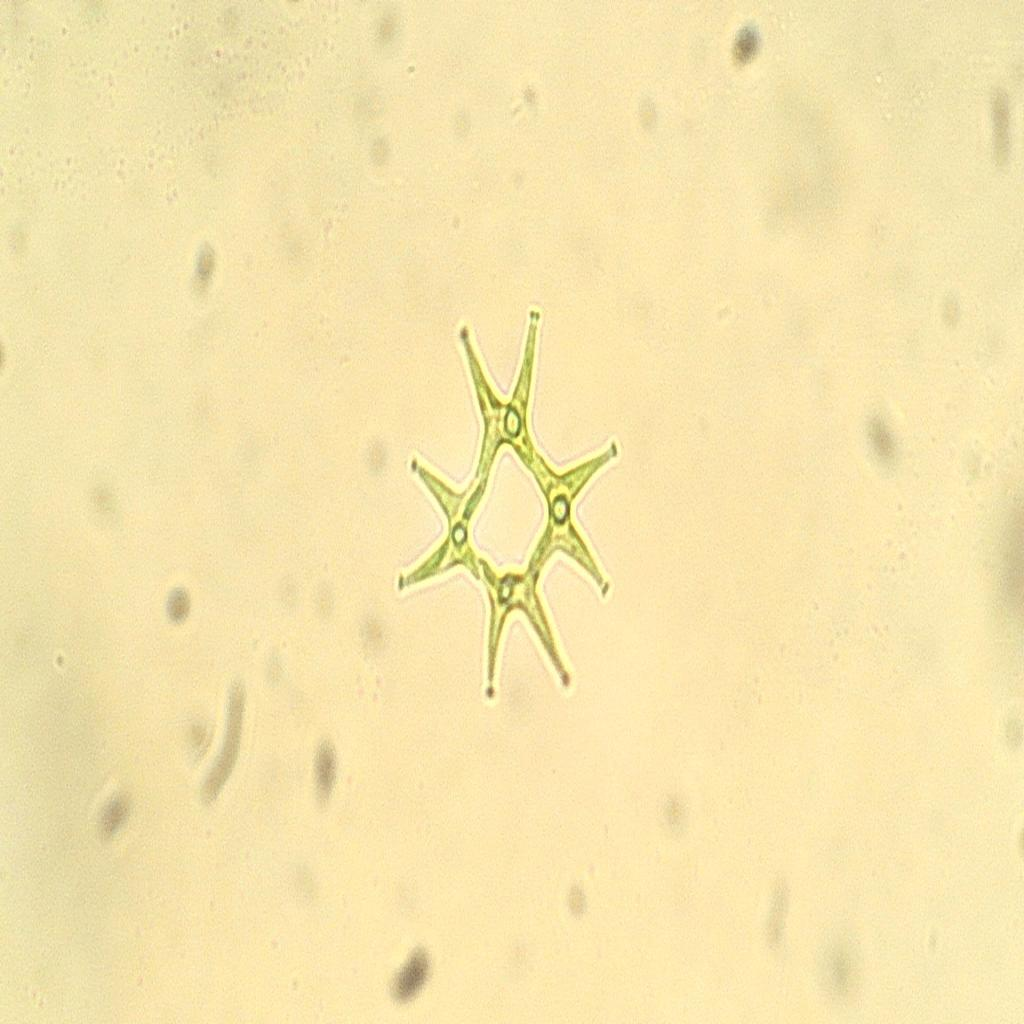Pediastrum_75O: (391, 292, 620, 737)
